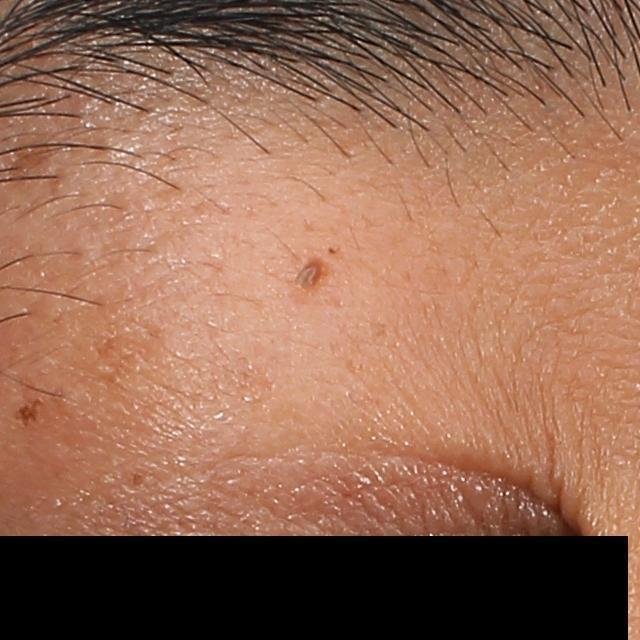nevus: (12, 395, 45, 432)
